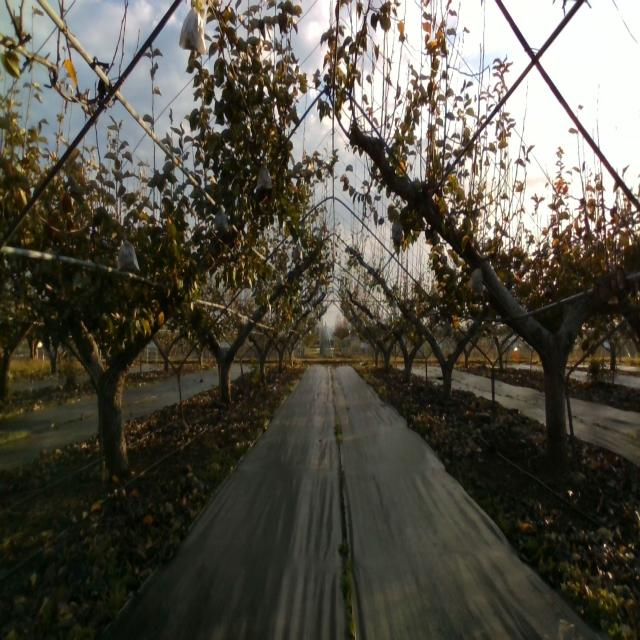pearbags: (178, 0, 207, 55), (117, 234, 140, 274), (213, 204, 230, 233), (256, 163, 272, 191), (469, 268, 484, 297), (391, 216, 405, 242)
